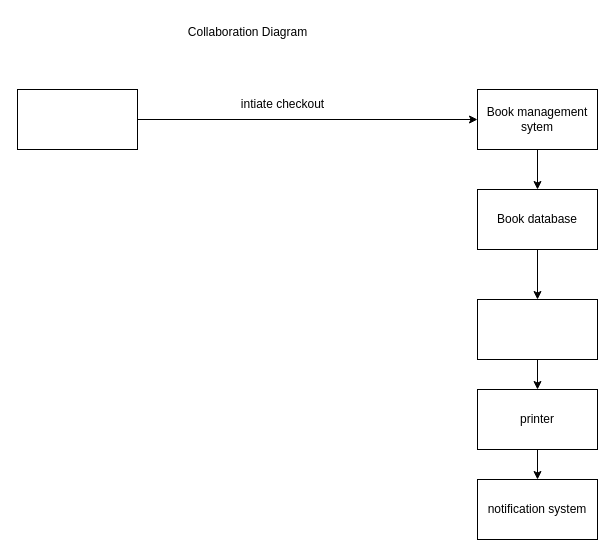
Some shapes in this 615 by 557 pixel diagram are drawn without their labels. Each missing label, with the box of its shape:
Library: (16, 88, 138, 150)
User account database: (476, 298, 598, 360)
